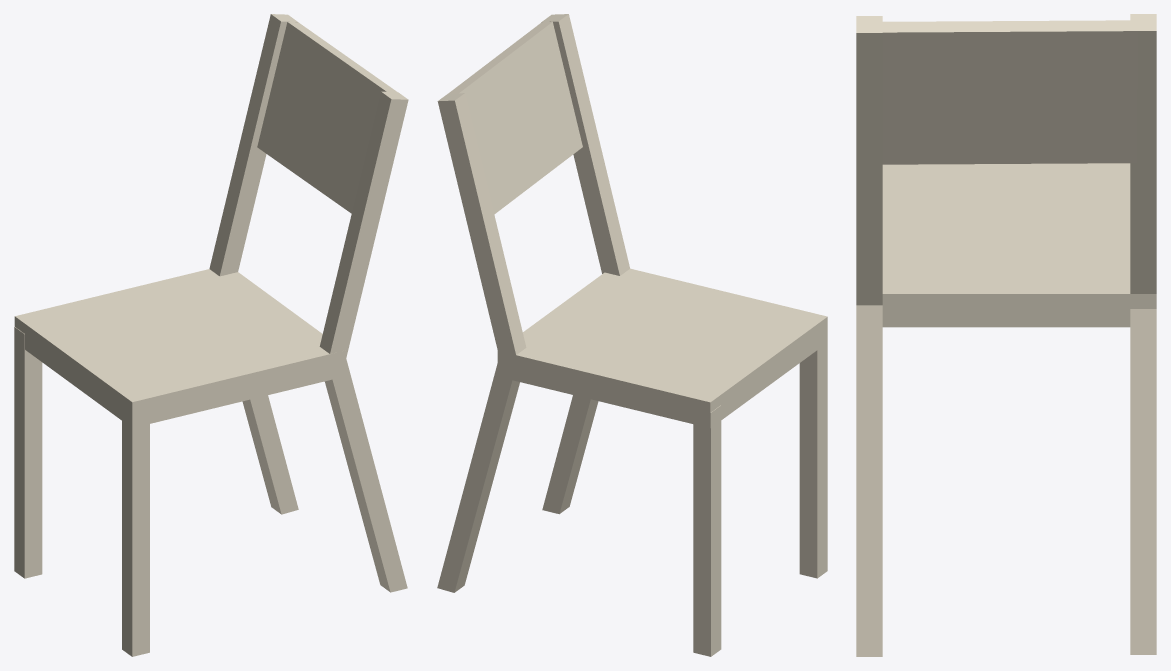
File: chear02.fbx
3 views of the same model, side by side, from view 1: azimuth 30°, elevation 25°; view 2: azimuth 150°, elevation 25°; view 3: azimuth 270°, elevation 25° (orthographic). The views are drawn at different scales.
Visible parts, largest first — view 1: polySurface83; view 2: polySurface83; view 3: polySurface83.
Boxes of the visible parts, left/top/right/bottom form: polySurface83: left=14, top=14, right=408, bottom=656; polySurface83: left=437, top=14, right=827, bottom=656; polySurface83: left=856, top=14, right=1156, bottom=656.
Size of the model in its own units: 373 by 637 by 274.
